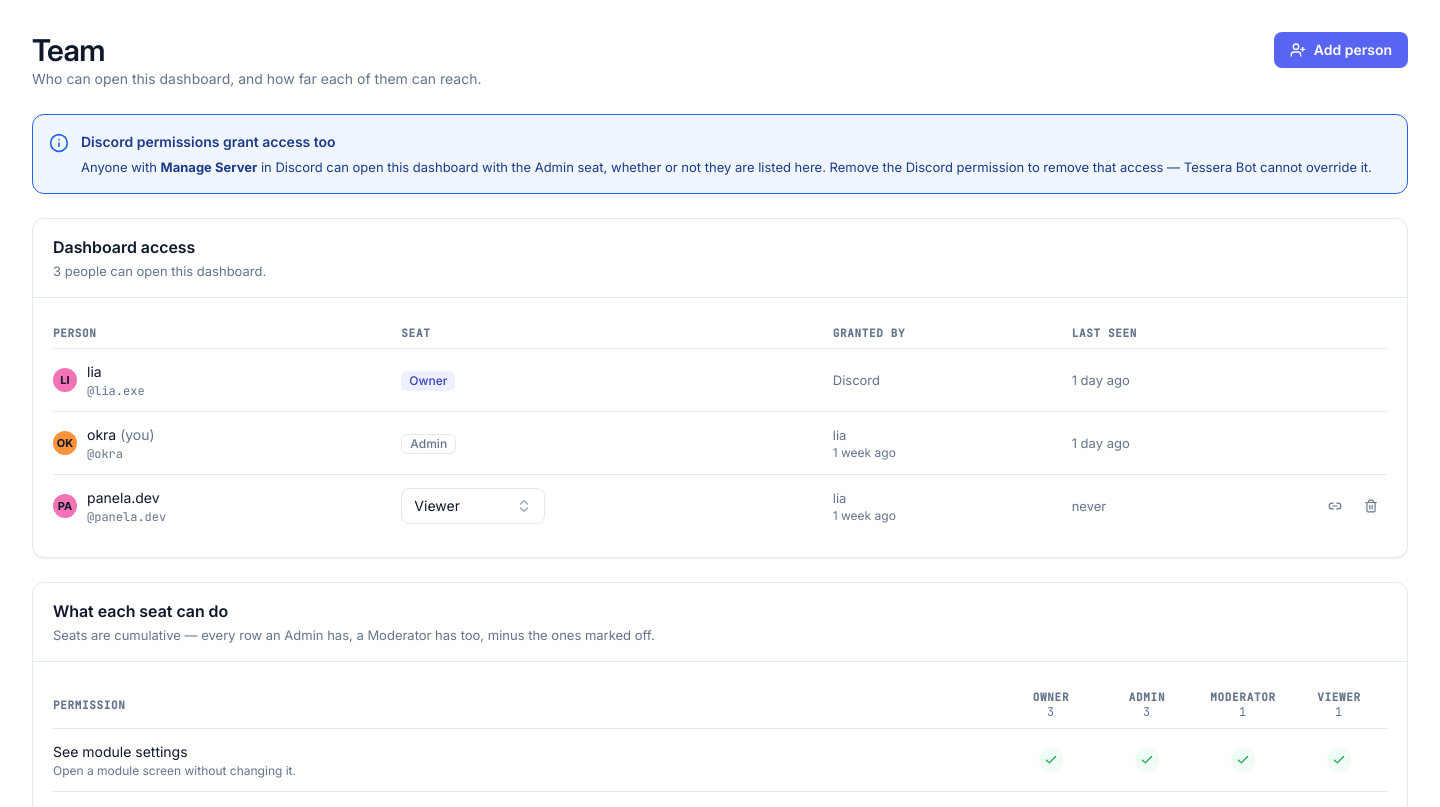
Test: TeamScreen adds someone by id › refuses to submit while the id is not a snowflake, before spending a request
Click the button "Add person". click: (1341, 50)
box: [1274,32,1408,68]
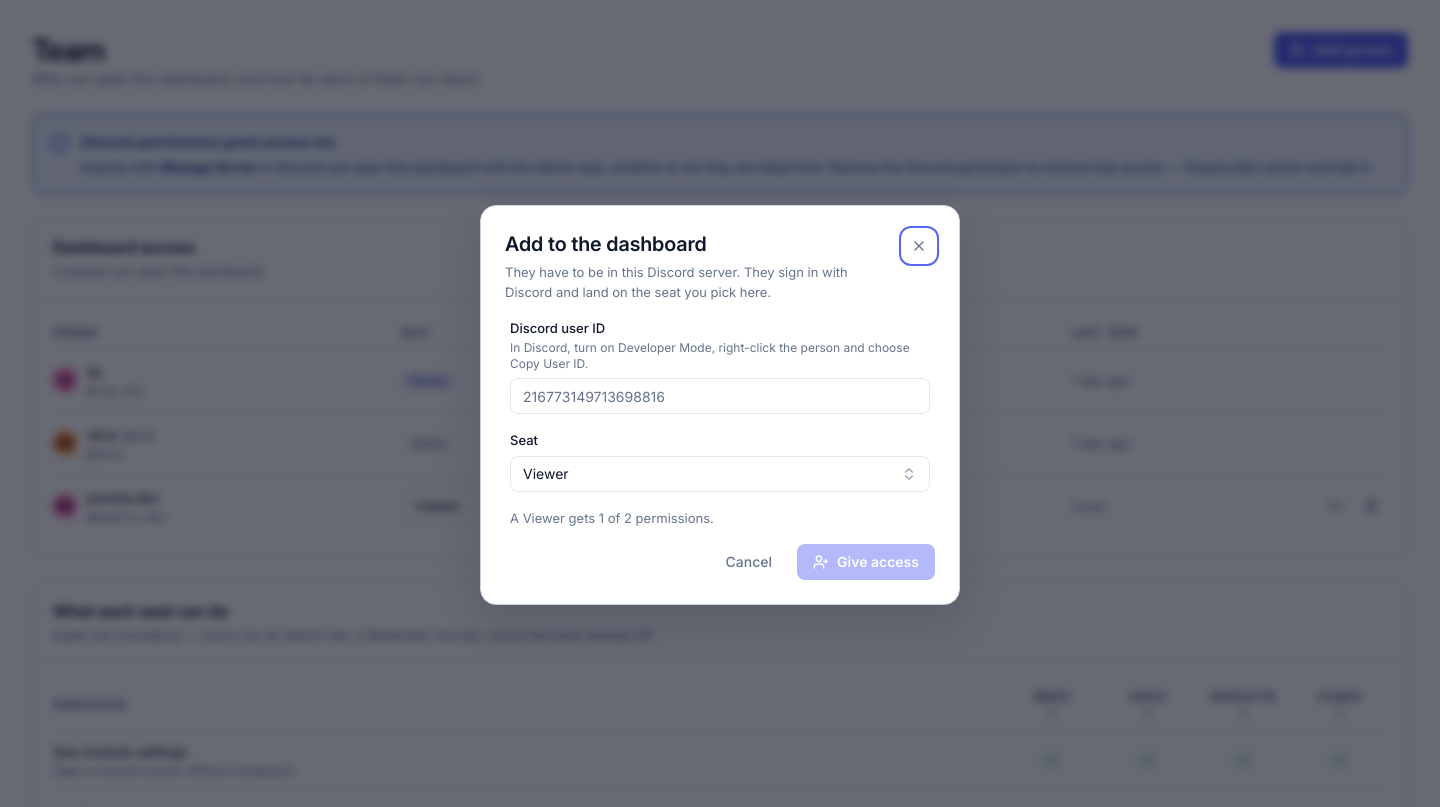
Expected: the button "Give access" is disabled, [797,544,935,580]
Type "42" into the field. click: (720, 396)
box: [510,378,930,414]
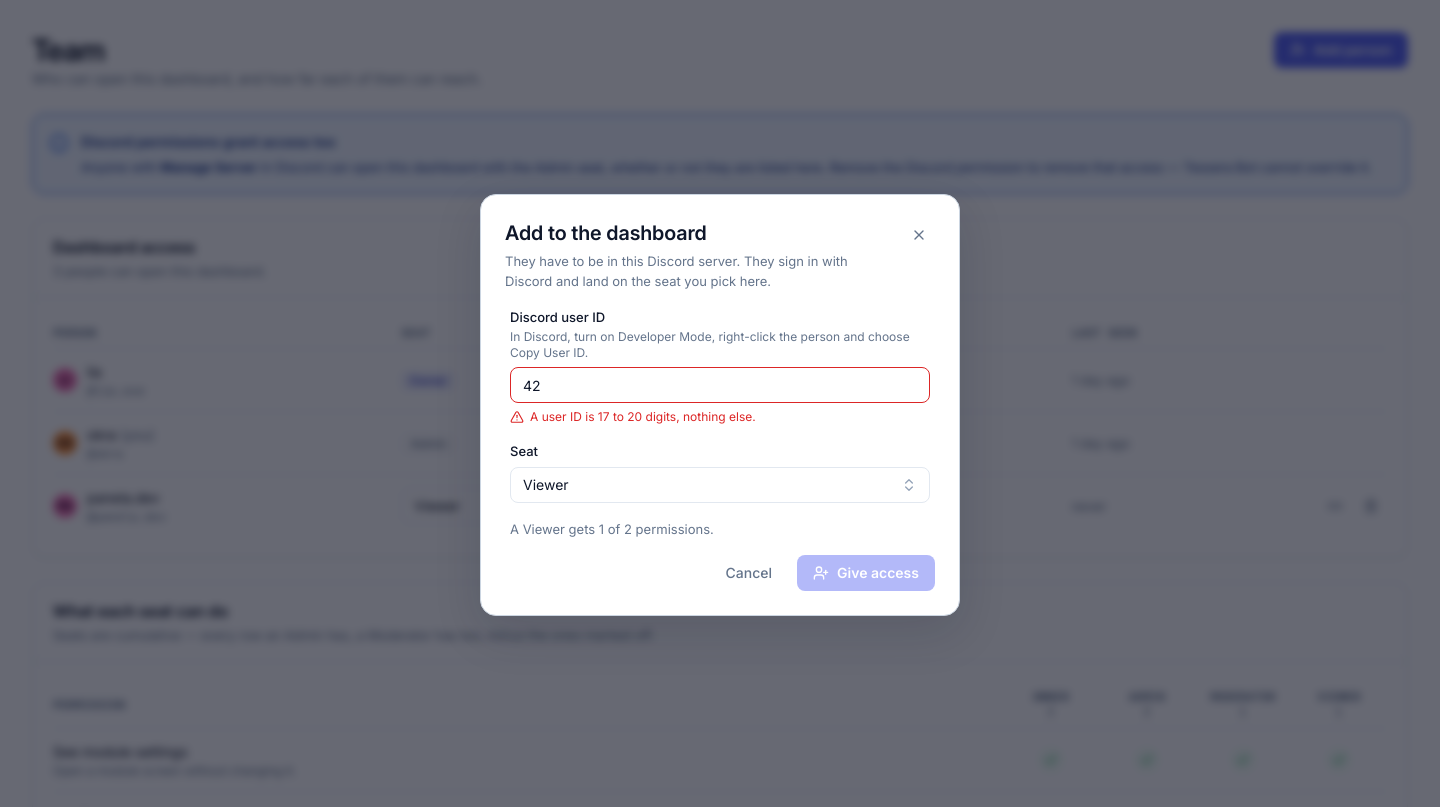
Expected: the button "Give access" is disabled, [797,555,935,591]
Expected: the text "A user ID is 17 to 20 digits, nothing else." is shown, [530,409,756,425]
